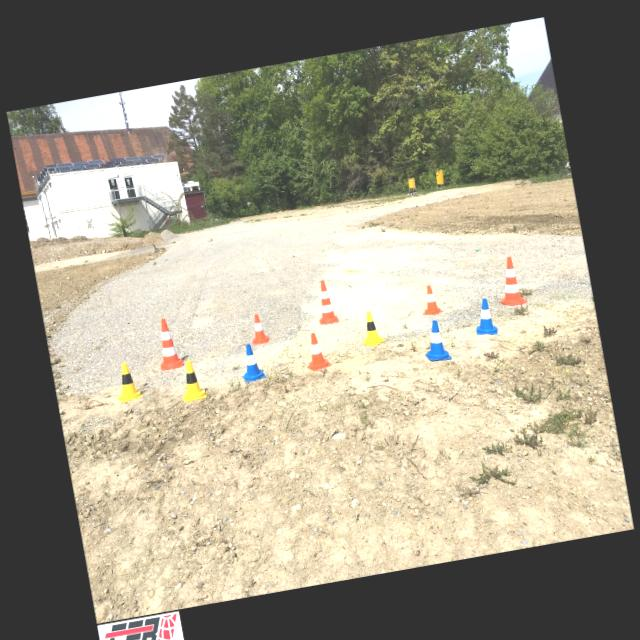blue_cone: (420, 318, 451, 363), (236, 341, 266, 382), (471, 297, 498, 338)
large_orange_cone: (492, 254, 527, 306), (152, 316, 184, 369), (313, 279, 338, 324)
orange_cone: (301, 331, 332, 372), (418, 284, 442, 316), (248, 312, 268, 344)
yellow_cone: (111, 360, 142, 402), (178, 359, 206, 401), (356, 308, 384, 348)
